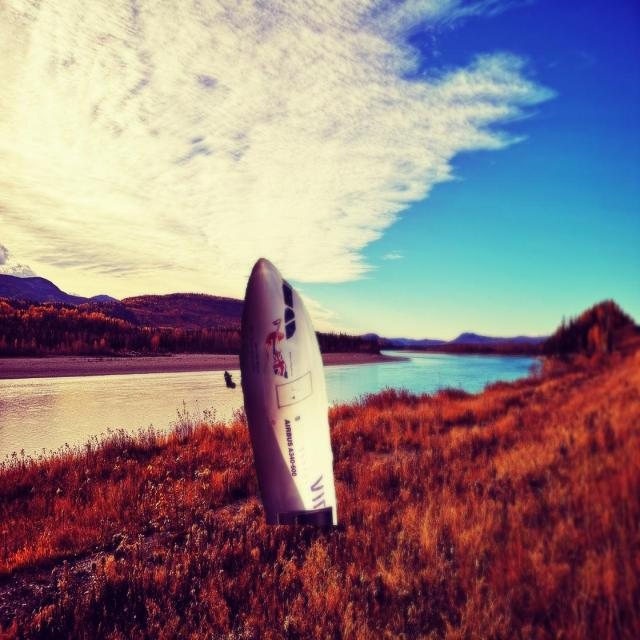airplane: (238, 256, 338, 527)
